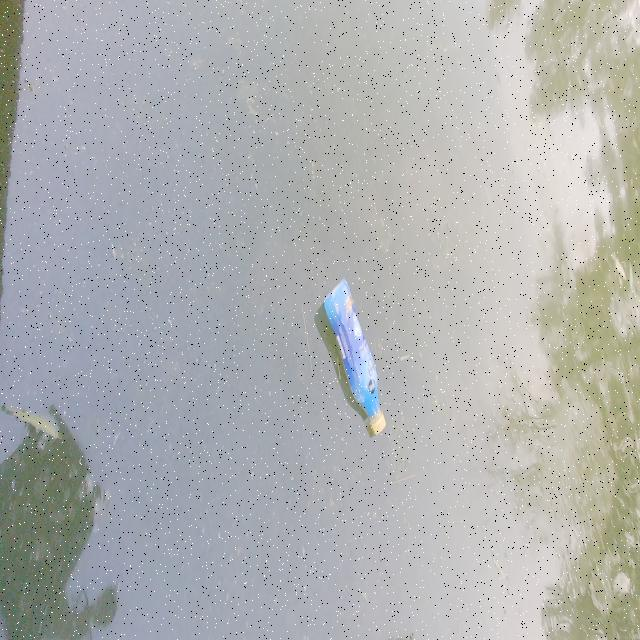Bottle: (319, 272, 389, 439)
